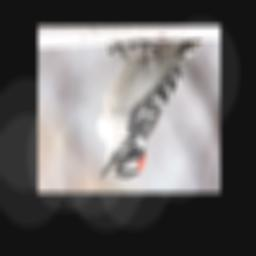Woodpecker: (95, 38, 202, 178)
